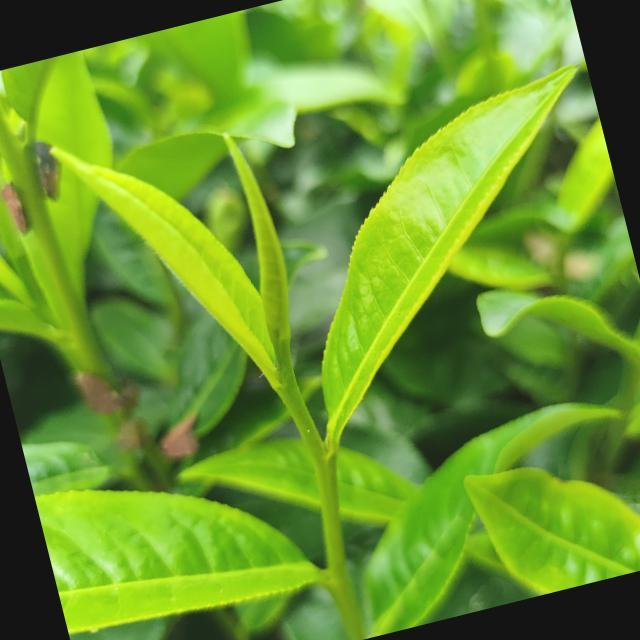Stem: (317, 454, 335, 480)
